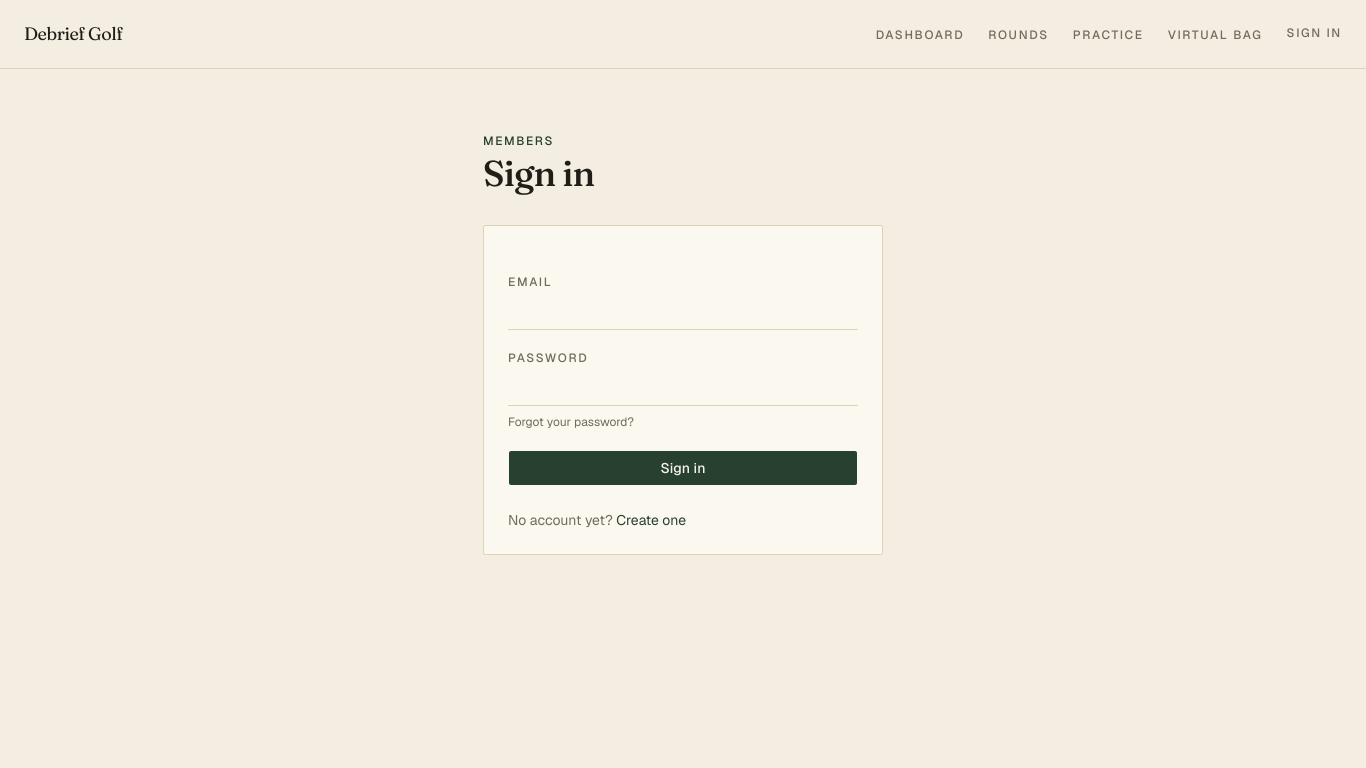
Test: LoginPage › stays put and reports a generic message on an unexpected failure
Type "jane@example.com" into the field labelled "Email" at (683, 312), box [508,294,858,330]
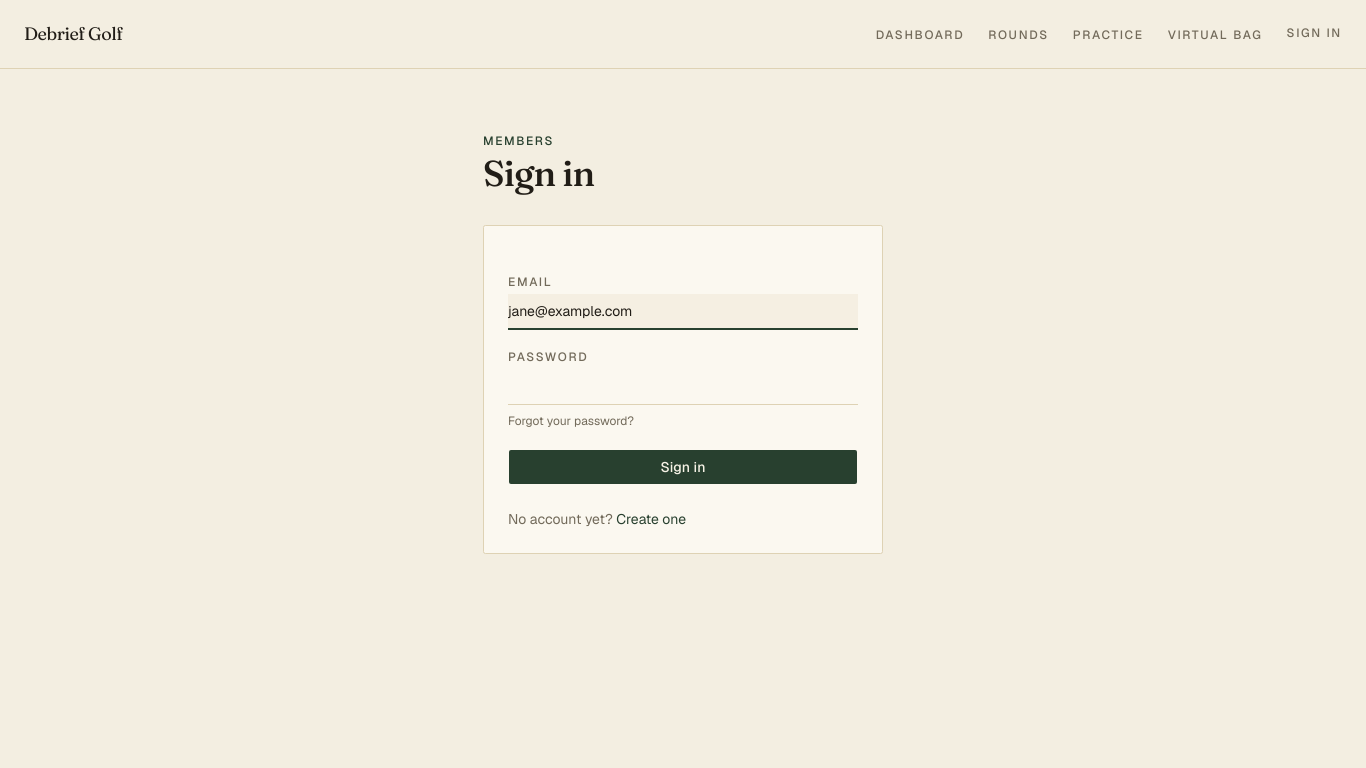
Type "whatever-password" into the password field labelled "Password" at (683, 387), box [508,369,858,405]
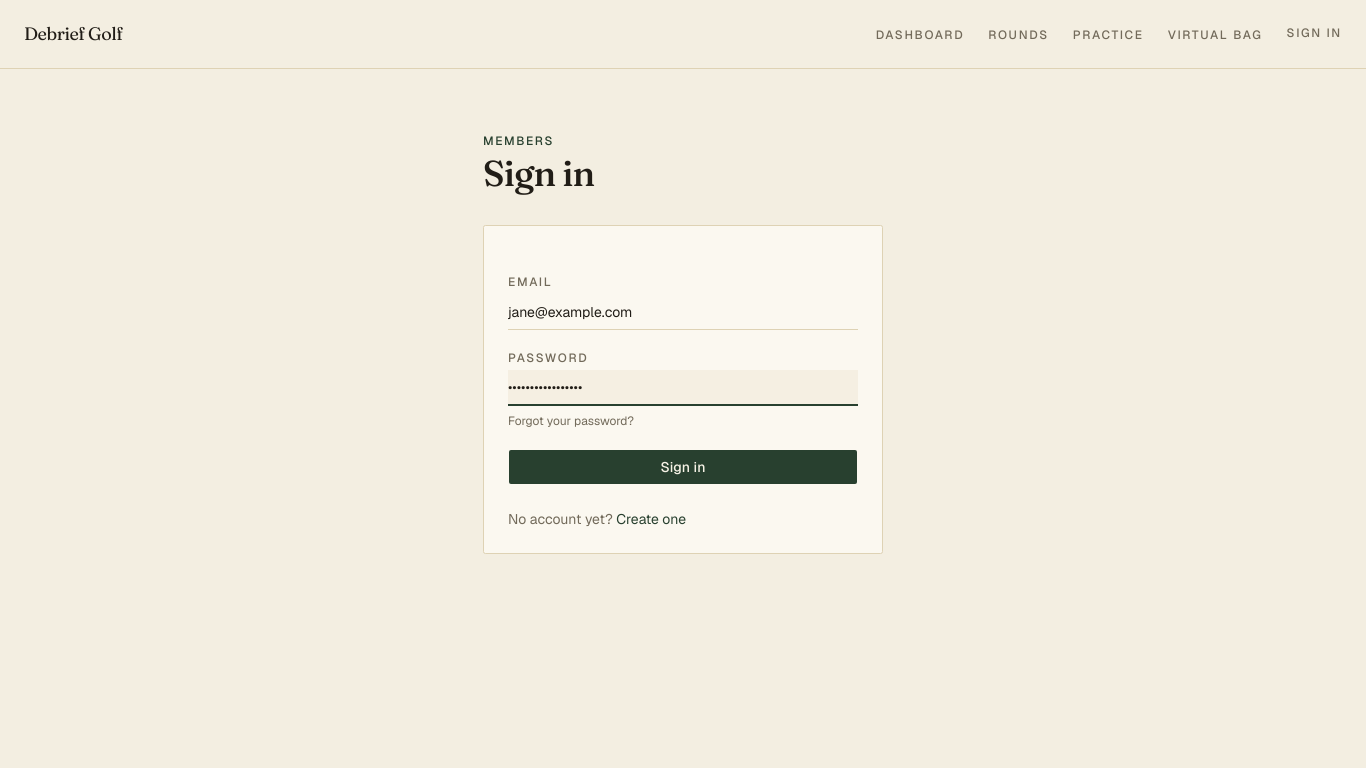
Click the button "Sign in" at (683, 467), box [508,449,858,485]
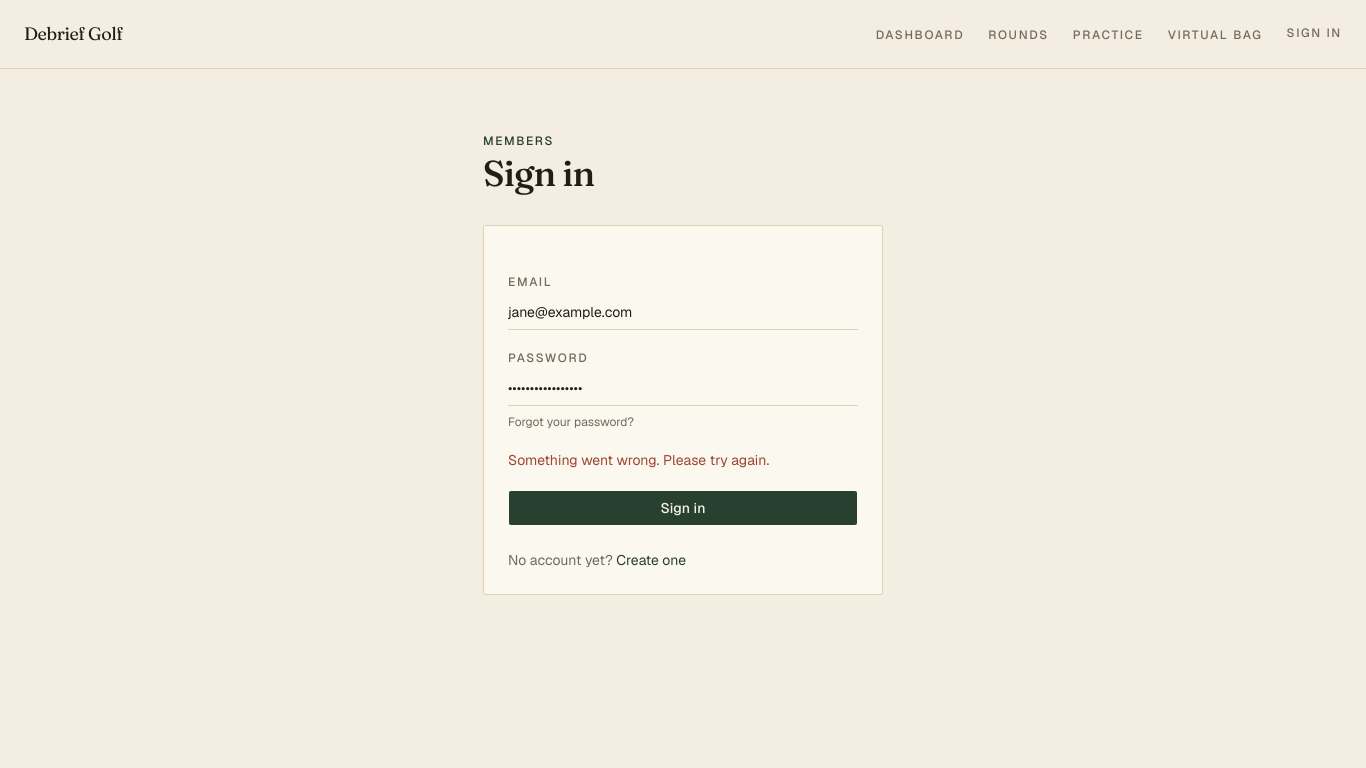
Expected: the message shows "Something went wrong", [508,451,769,469]
